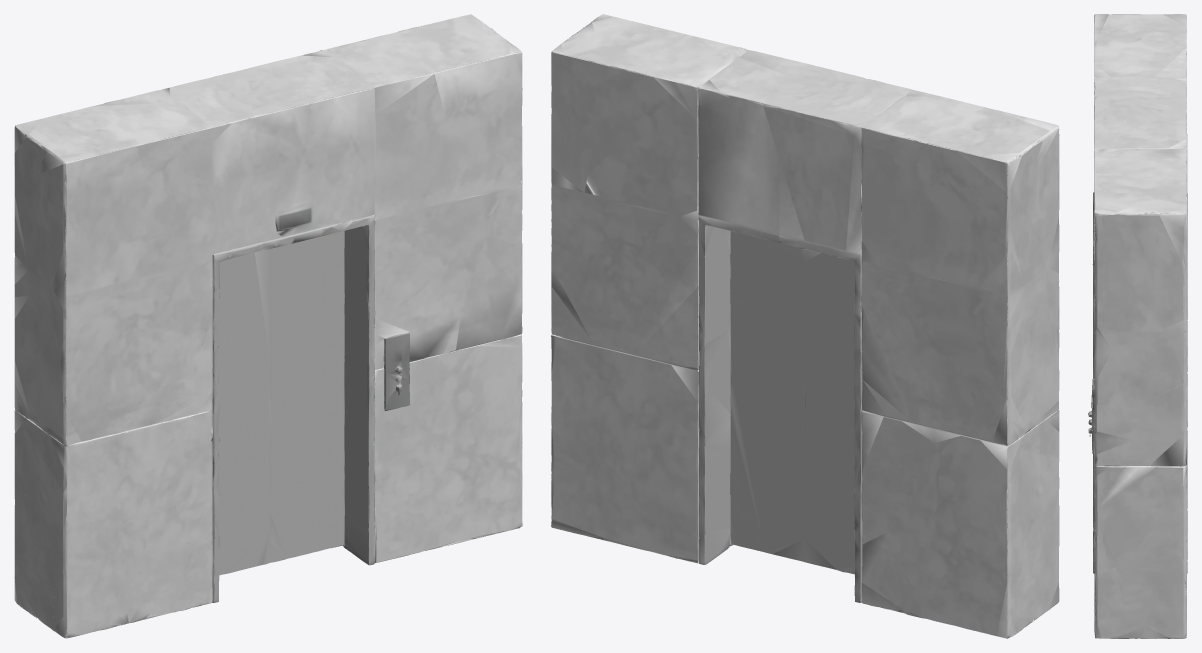
File: PenthouseElevator.glb
3 views of the same model, side by side, from view 1: azimuth 30°, elevation 25°; view 2: azimuth 150°, elevation 25°; view 3: azimuth 270°, elevation 25° (orthographic). The views are drawn at different scales.
Parts seen in each view (by area): view 1: Penthouse-Elevator_10, Penthouse-Elevator_00, Penthouse-Elevator_01, Penthouse-Elevator_11; view 2: Penthouse-Elevator_11, Penthouse-Elevator_01, Penthouse-Elevator_00, Penthouse-Elevator_10; view 3: Penthouse-Elevator_11, Penthouse-Elevator_10, Penthouse-Elevator_01, Penthouse-Elevator_00.
Boxes of the visible parts, x1,y1,x2,y2 form: Penthouse-Elevator_10: [270, 34, 522, 565]; Penthouse-Elevator_00: [40, 89, 294, 638]; Penthouse-Elevator_01: [14, 70, 269, 620]; Penthouse-Elevator_11: [243, 14, 498, 546]; Penthouse-Elevator_11: [551, 31, 806, 564]; Penthouse-Elevator_01: [779, 87, 1036, 638]; Penthouse-Elevator_00: [807, 69, 1059, 618]; Penthouse-Elevator_10: [578, 14, 830, 544]; Penthouse-Elevator_11: [1138, 113, 1187, 638]; Penthouse-Elevator_10: [1088, 113, 1137, 638]; Penthouse-Elevator_01: [1138, 14, 1187, 502]; Penthouse-Elevator_00: [1093, 14, 1137, 475].
Bounding box in the file's own units: 12.13 × 12.02 × 2.55.
1 material, 1 textured.
